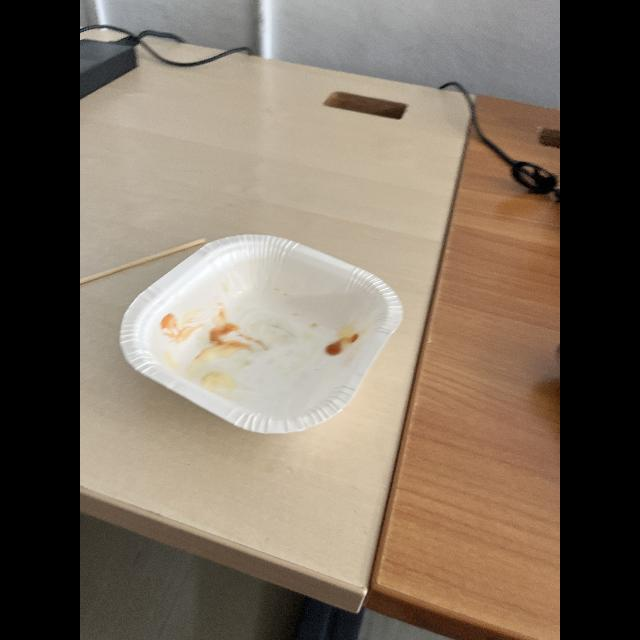cardboard_bowl: (117, 229, 409, 441)
stick: (80, 230, 210, 292)
